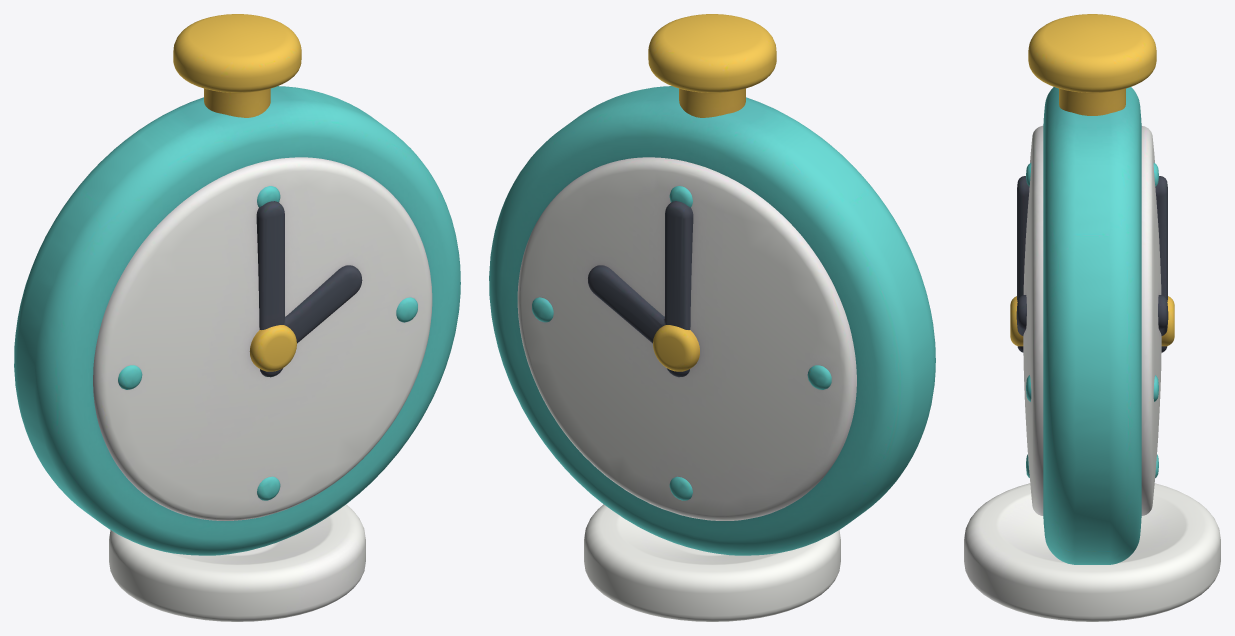
File: clock-pickup.glb
The picture shows the model from 3 angles, left to right: view 1: azimuth 30°, elevation 25°; view 2: azimuth 150°, elevation 25°; view 3: azimuth 270°, elevation 25°; orthographic projection.
Parts seen in each view (by area): view 1: clock-pickup_rotor, clock-pickup_body; view 2: clock-pickup_rotor, clock-pickup_body; view 3: clock-pickup_rotor, clock-pickup_body.
Boxes of the visible parts, x1,y1,x2,y2 form: clock-pickup_rotor: (14,14,460,555); clock-pickup_body: (109,504,365,621); clock-pickup_rotor: (489,14,935,555); clock-pickup_body: (584,504,840,621); clock-pickup_rotor: (1010,14,1174,564); clock-pickup_body: (964,483,1220,621).
Bounding box in the file's own units: 0.38 × 0.465 × 0.2.
Materials: 2 (2 with a texture image).
